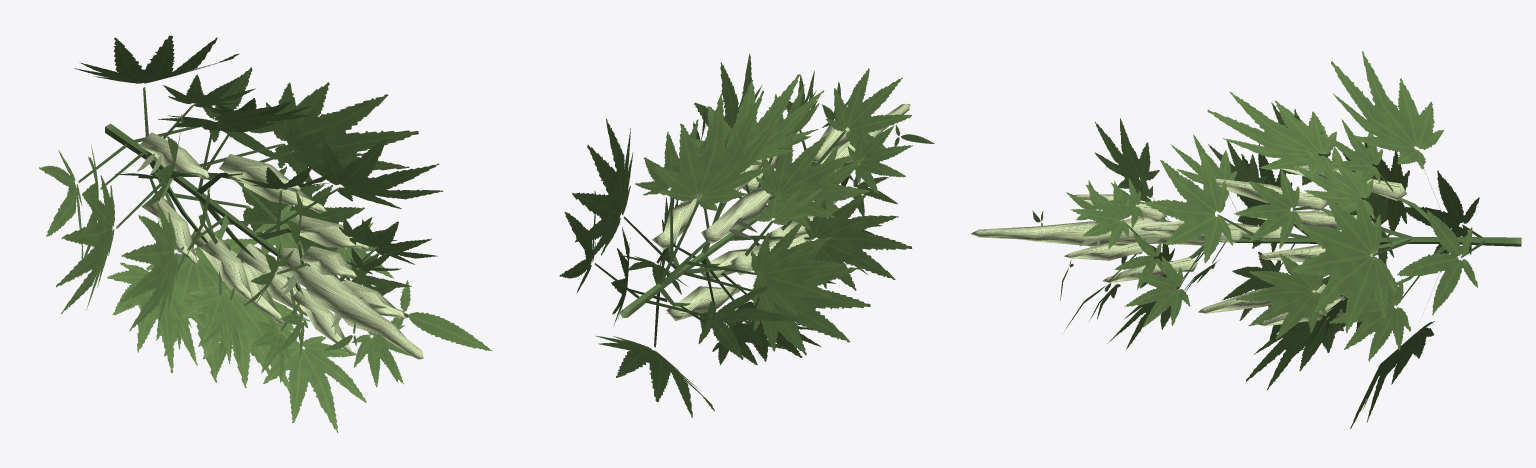
Rendered from p_frosty_haze_flowering_c0_cards.obj.
3 views of the same model, side by side, from view 1: azimuth 30°, elevation 25°; view 2: azimuth 150°, elevation 25°; view 3: azimuth 270°, elevation 25° (orthographic). The views are drawn at different scales.
Size of the model in its own units: 1.45 by 1.53 by 2.03.
1 material, 1 textured.
